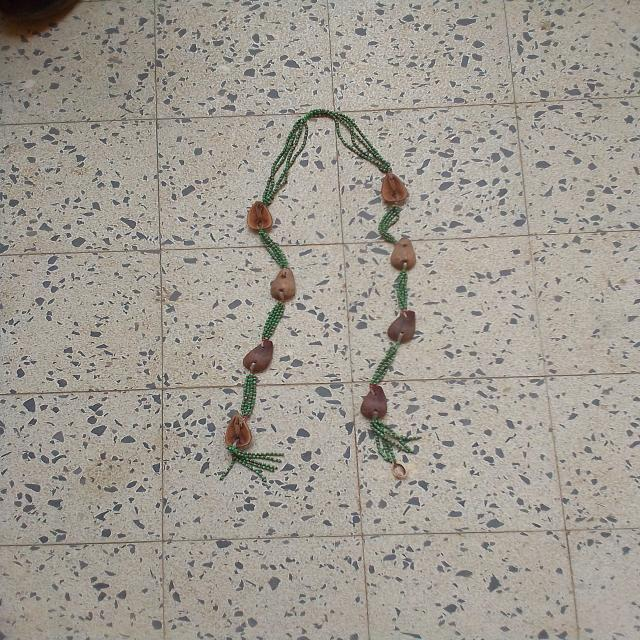facedown: (240, 335, 276, 373), (359, 379, 388, 422), (386, 309, 419, 344), (270, 264, 298, 305), (389, 235, 419, 273)
faceup: (222, 411, 254, 452), (378, 168, 411, 206), (244, 197, 278, 233)
